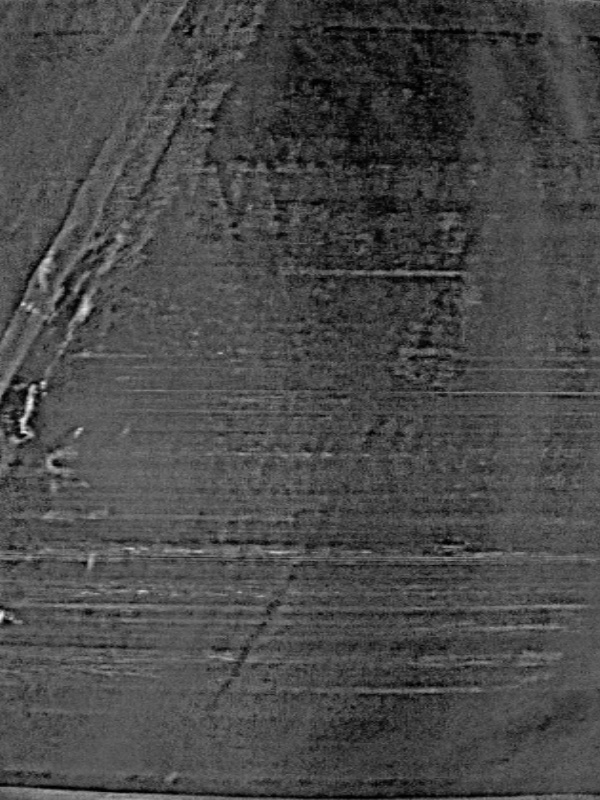splice_vulcanized: (2, 1, 252, 468)
